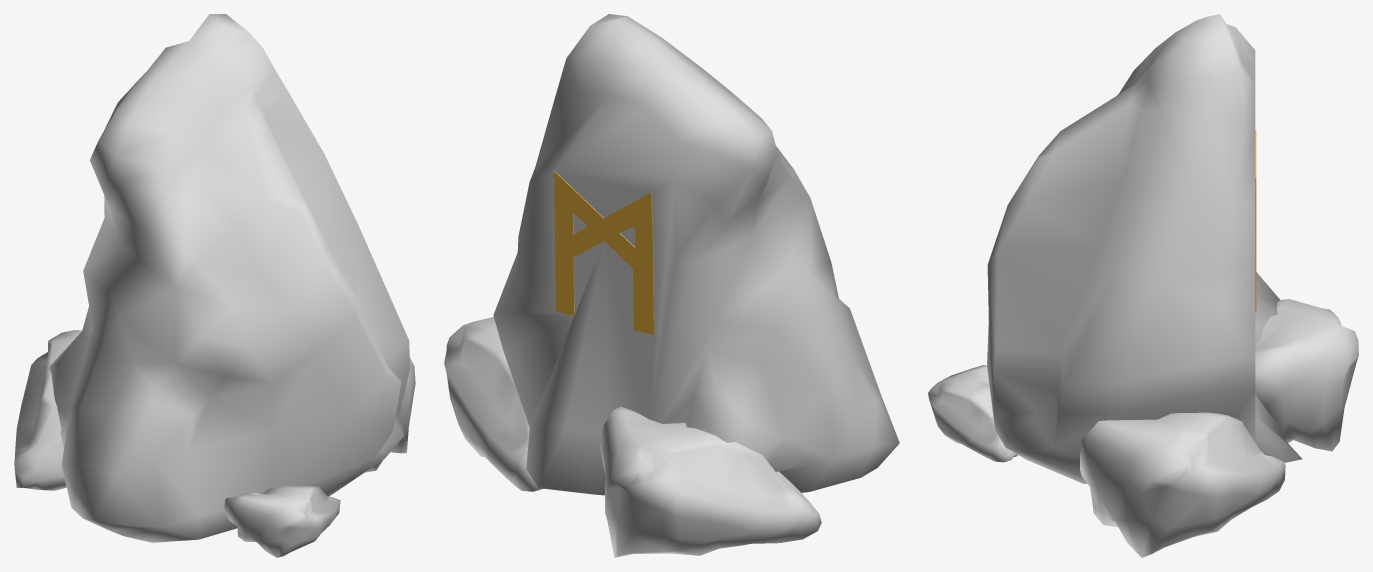
Rendered from Mannaz.fbx.
The picture shows the model from 3 angles, left to right: view 1: azimuth 30°, elevation 25°; view 2: azimuth 150°, elevation 25°; view 3: azimuth 270°, elevation 25°; orthographic projection. The views are drawn at different scales.
Parts seen in each view (by area): view 1: stone; view 2: stone, Mannaz; view 3: stone.
Part boxes in pixels (left/top/right/bottom): stone: left=14, top=14, right=415, bottom=557; stone: left=444, top=14, right=899, bottom=557; Mannaz: left=554, top=171, right=654, bottom=334; stone: left=928, top=14, right=1358, bottom=557.
Size of the model in its own units: 155 by 181 by 152.
